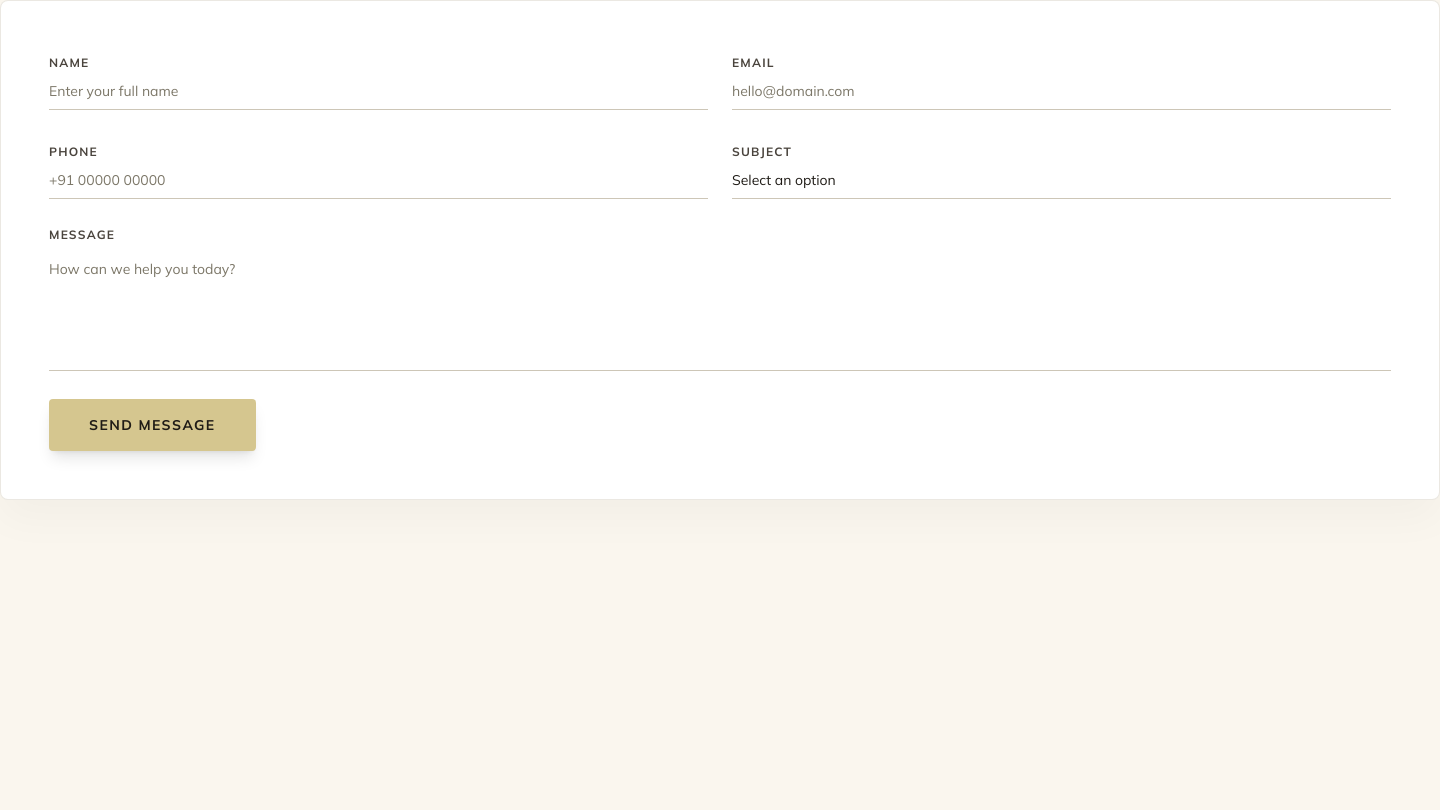
Test: ContactForm › Zod validation › shows required errors for name, email, subject, and message on empty submit
Click the button with test id "contact-submit-button" at (152, 425), box [49,399,256,451]
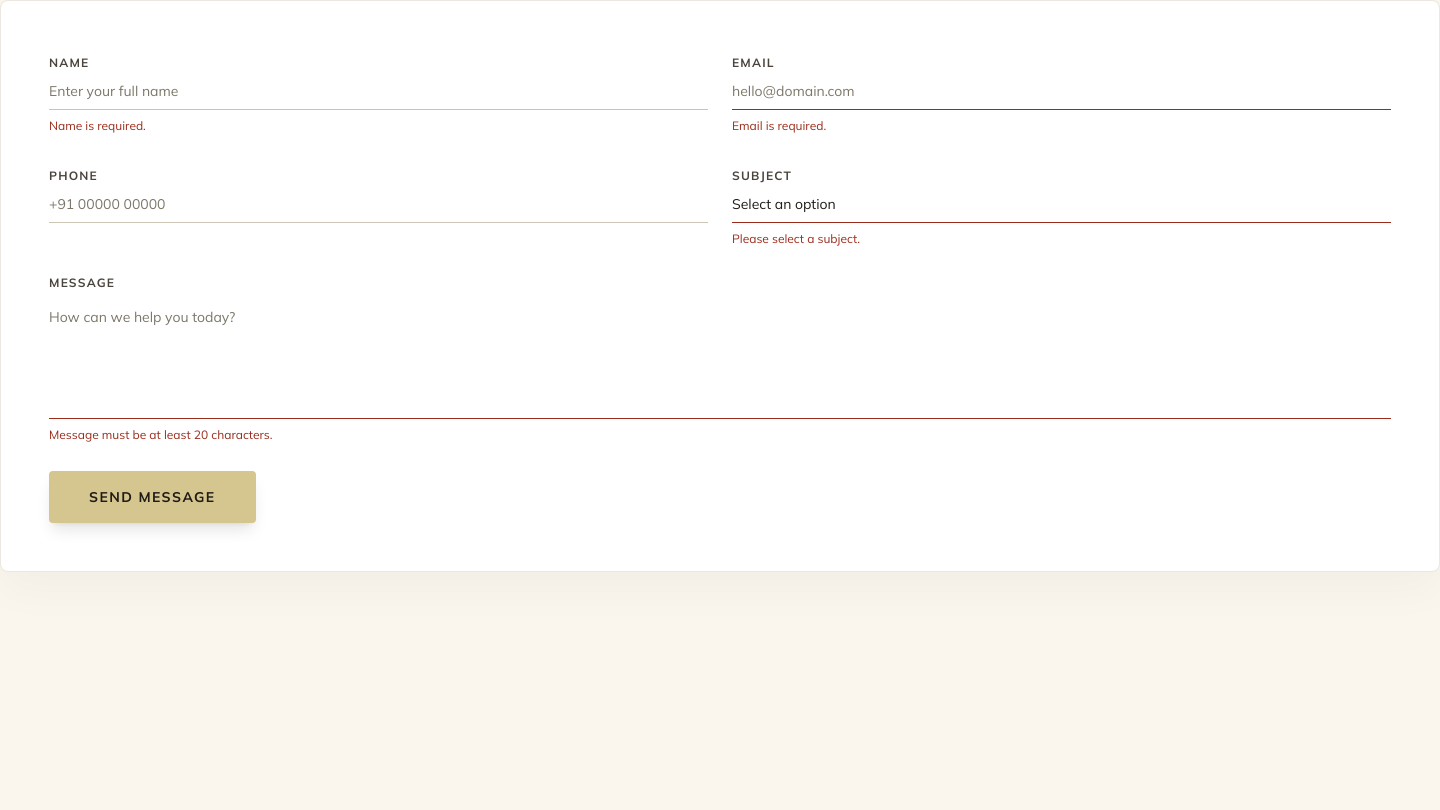
expect the text with test id "contact-name-error" reads "Name is required.": met, box [49,118,146,133]
expect the text with test id "contact-email-error" reads "Email is required.": met, box [732,118,826,133]
expect the text with test id "contact-subject-error" reads "Please select a subject.": met, box [732,231,860,246]
